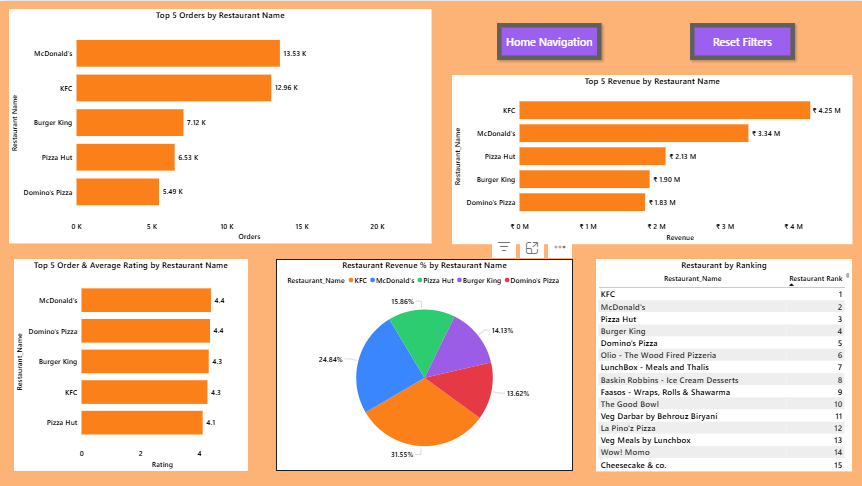

The page's visual inventory and layout, read from the dashboard file:
{"tool":"powerbi","page":{"name":"Restaurant Performance","canvas":[1920,1080],"ordinal":4},"visuals":[{"type":"clusteredBarChart","title":"Top 5 Orders by Restaurant Name","fields":{"Category":["dim_restaurant.Restaurant_Name"],"Y":["fact_swiggy_orders.Total Orders"]},"box":[21.1,18.4,939.5,521.1],"z":0},{"type":"clusteredBarChart","title":"Top 5 Revenue by Restaurant Name","fields":{"Category":["dim_restaurant.Restaurant_Name"],"Y":["fact_swiggy_orders.Total Revenue"]},"box":[1004.8,164.3,890.5,376.2],"z":1000},{"type":"tableEx","title":"Restaurant by Ranking","fields":{"Values":["dim_restaurant.Restaurant_Name","dim_restaurant.Restaurant Rank"]},"box":[1325,572.2,569.4,472.2],"z":2000},{"type":"pieChart","title":"Restaurant Revenue % by Restaurant Name","fields":{"Y":["dim_restaurant.Restaurant Revenue %"],"Category":["dim_restaurant.Restaurant_Name"]},"box":[613.3,573.3,660,471.1],"z":3000},{"type":"clusteredBarChart","title":"Top 5 Order & Average Rating by Restaurant Name","fields":{"Category":["dim_restaurant.Restaurant_Name"],"Y":["fact_swiggy_orders.Average Rating"]},"box":[31.1,573.3,520,471.1],"z":4000},{"type":"actionButton","box":[1095.6,40,250,100],"z":10000},{"type":"actionButton","box":[1524.4,40,251.1,100],"z":11000}]}

Visuals, with their boxes in screenshot pixels (x1, y1, x2, y2), scaled from the page's 1920x1080 canvas onto the 862x486 screenshot:
"Top 5 Orders by Restaurant Name" clusteredBarChart: x1=9 y1=8 x2=431 y2=243
"Top 5 Revenue by Restaurant Name" clusteredBarChart: x1=451 y1=74 x2=851 y2=243
"Restaurant by Ranking" tableEx: x1=595 y1=257 x2=851 y2=470
"Restaurant Revenue % by Restaurant Name" pieChart: x1=275 y1=258 x2=572 y2=470
"Top 5 Order & Average Rating by Restaurant Name" clusteredBarChart: x1=14 y1=258 x2=247 y2=470
actionButton: x1=492 y1=18 x2=604 y2=63
actionButton: x1=684 y1=18 x2=797 y2=63
